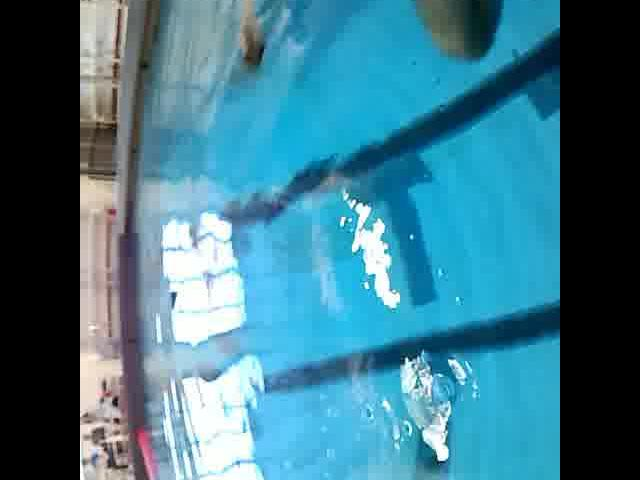CamMount: (166, 286, 182, 312)
